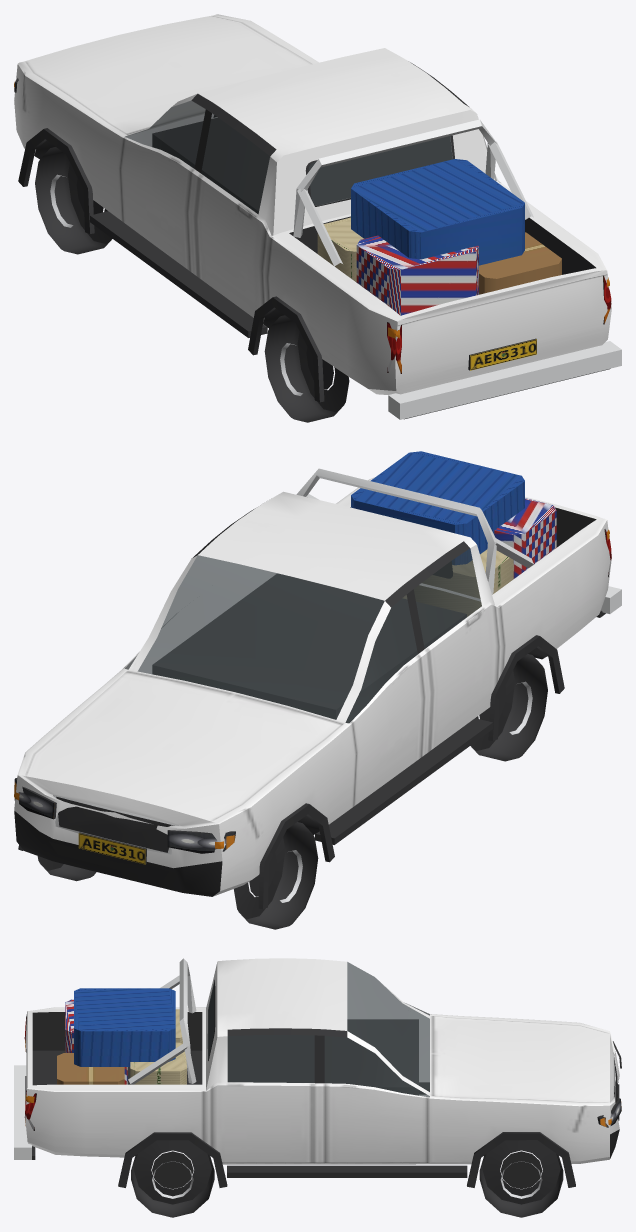
The model's file is pickup_hilux_lod1.glb.
3 views of the same model, one above another, from view 1: azimuth 30°, elevation 25°; view 2: azimuth 150°, elevation 25°; view 3: azimuth 270°, elevation 25° (orthographic). The views are drawn at different scales.
Parts seen in each view (by area): view 1: body, cargo, wheel_rl_mesh, wheel_fl_mesh, sports_bar; view 2: body, cargo, wheel_fl_mesh, wheel_rl_mesh, sports_bar, wheel_fr_mesh; view 3: body, cargo, wheel_fr_mesh, wheel_rr_mesh, sports_bar.
Part boxes in pixels (bbox=[...]): body: bbox=[14, 14, 621, 419]; cargo: bbox=[317, 159, 561, 315]; wheel_rl_mesh: bbox=[264, 315, 349, 422]; wheel_fl_mesh: bbox=[35, 147, 112, 254]; sports_bar: bbox=[293, 119, 533, 266]; body: bbox=[14, 477, 621, 909]; cargo: bbox=[351, 451, 556, 616]; wheel_fl_mesh: bbox=[233, 822, 318, 929]; wheel_rl_mesh: bbox=[470, 654, 547, 761]; sports_bar: bbox=[296, 468, 533, 594]; wheel_fr_mesh: bbox=[37, 856, 96, 881]; body: bbox=[14, 958, 621, 1187]; cargo: bbox=[57, 988, 186, 1084]; wheel_fr_mesh: bbox=[479, 1140, 563, 1217]; wheel_rr_mesh: bbox=[131, 1140, 214, 1217]; sports_bar: bbox=[128, 958, 196, 1084].
Size of the model in its own units: 1.9 by 1.83 by 5.38.
Materials: 12 (6 with a texture image).
